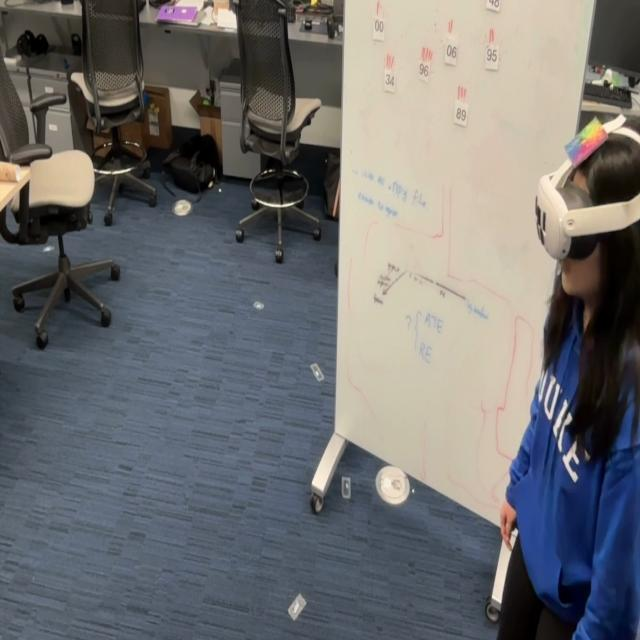Headset: (534, 118, 640, 260)
Marker: (568, 116, 607, 166)
